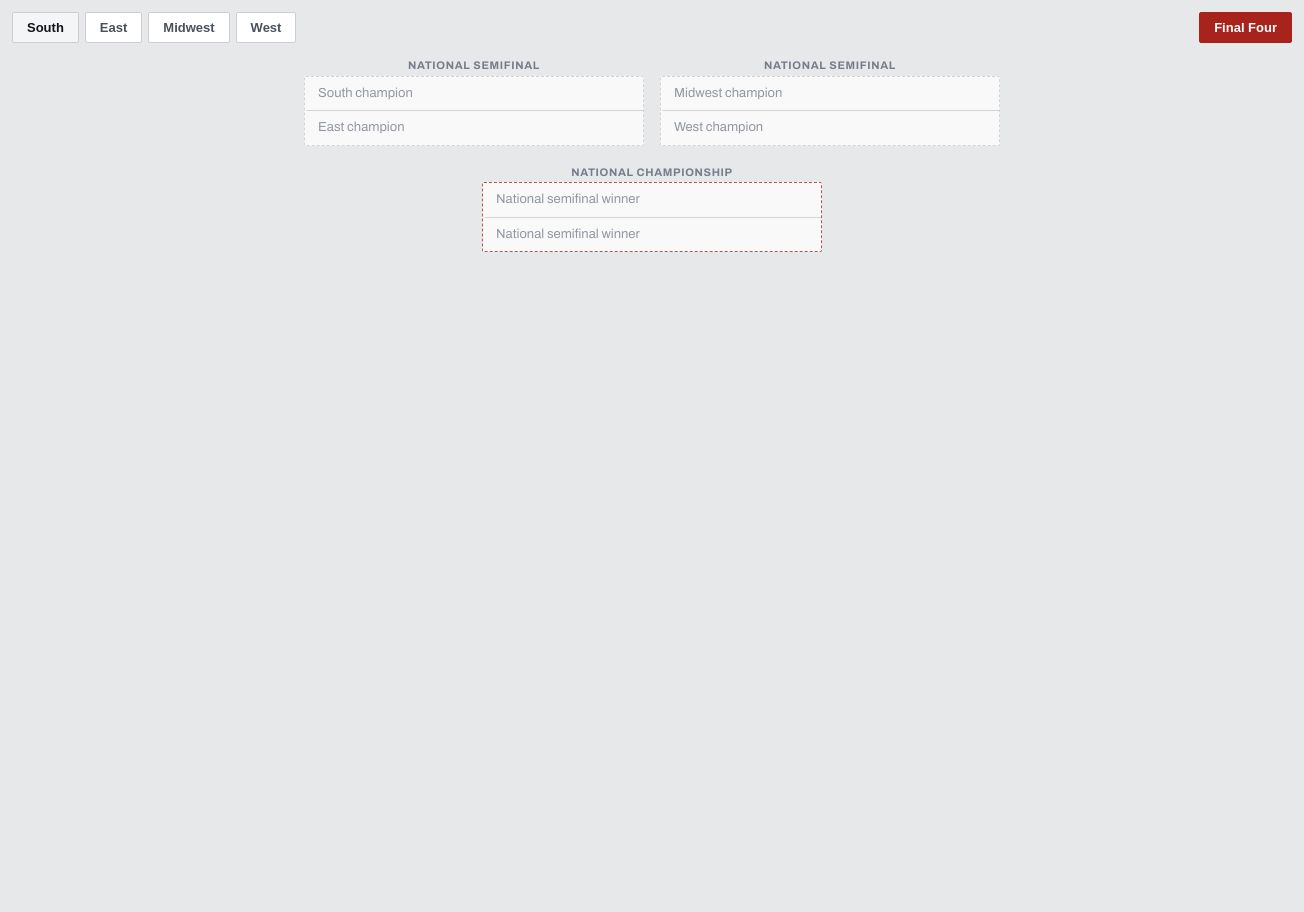
Test: Bracket component — partial field render › renders completed, live, and projected matches across region tabs
The image size is (1304, 912).
Note: South: has both completed slots and live slots.
Click the tab "South": coordinates (45, 28) [12,12,79,43]
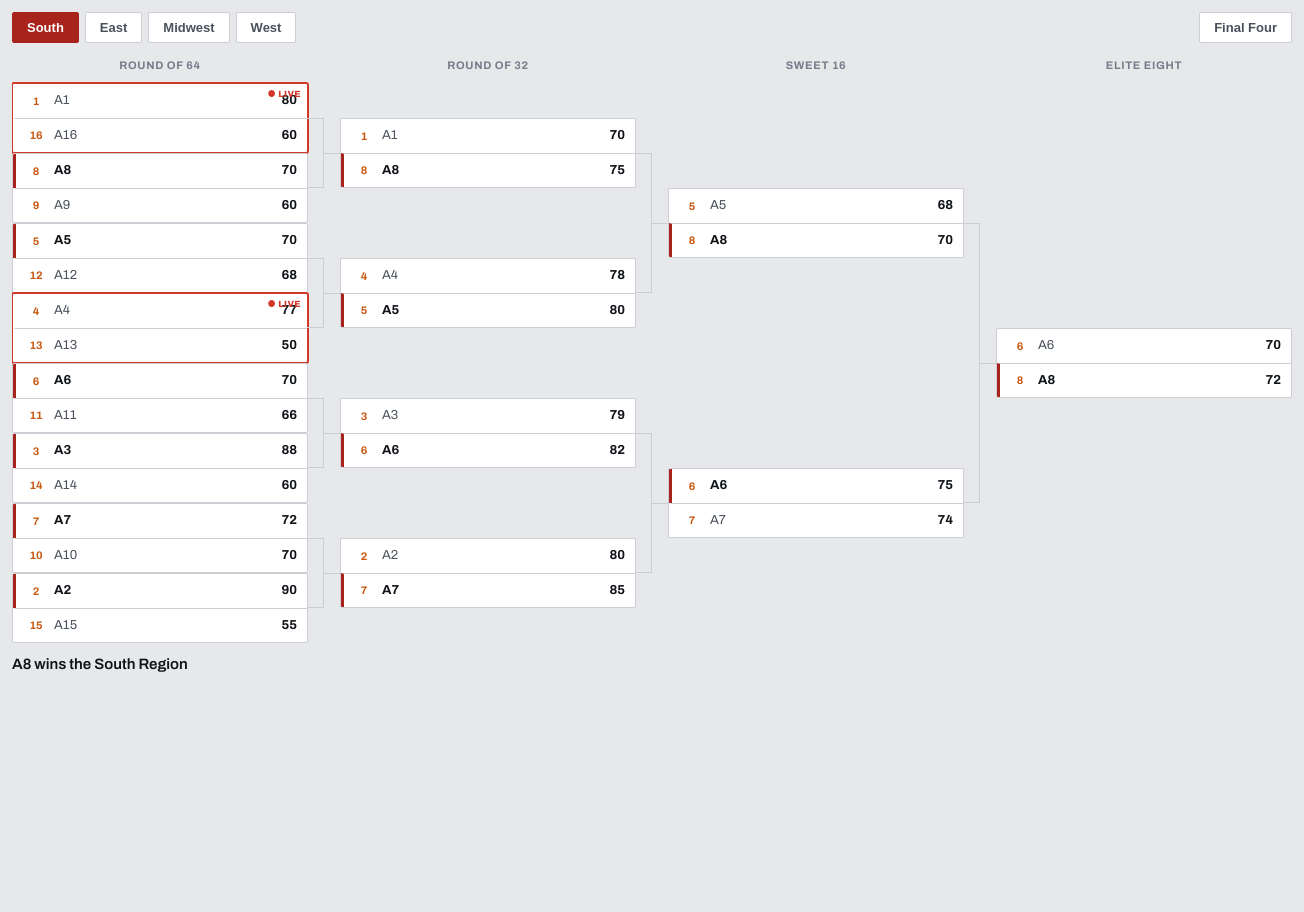
Check: the element with class "is-live" showing "1 A1 80 16 A16 60 ● Live" is shown, box [12,83,308,153]
Check: the element with class "mm-match" showing "8 A8 70 9 A9 60" is shown, box [12,153,308,223]
Note: East: all projected shells.
Click the tab "East": coordinates (114, 28) [85,12,142,43]
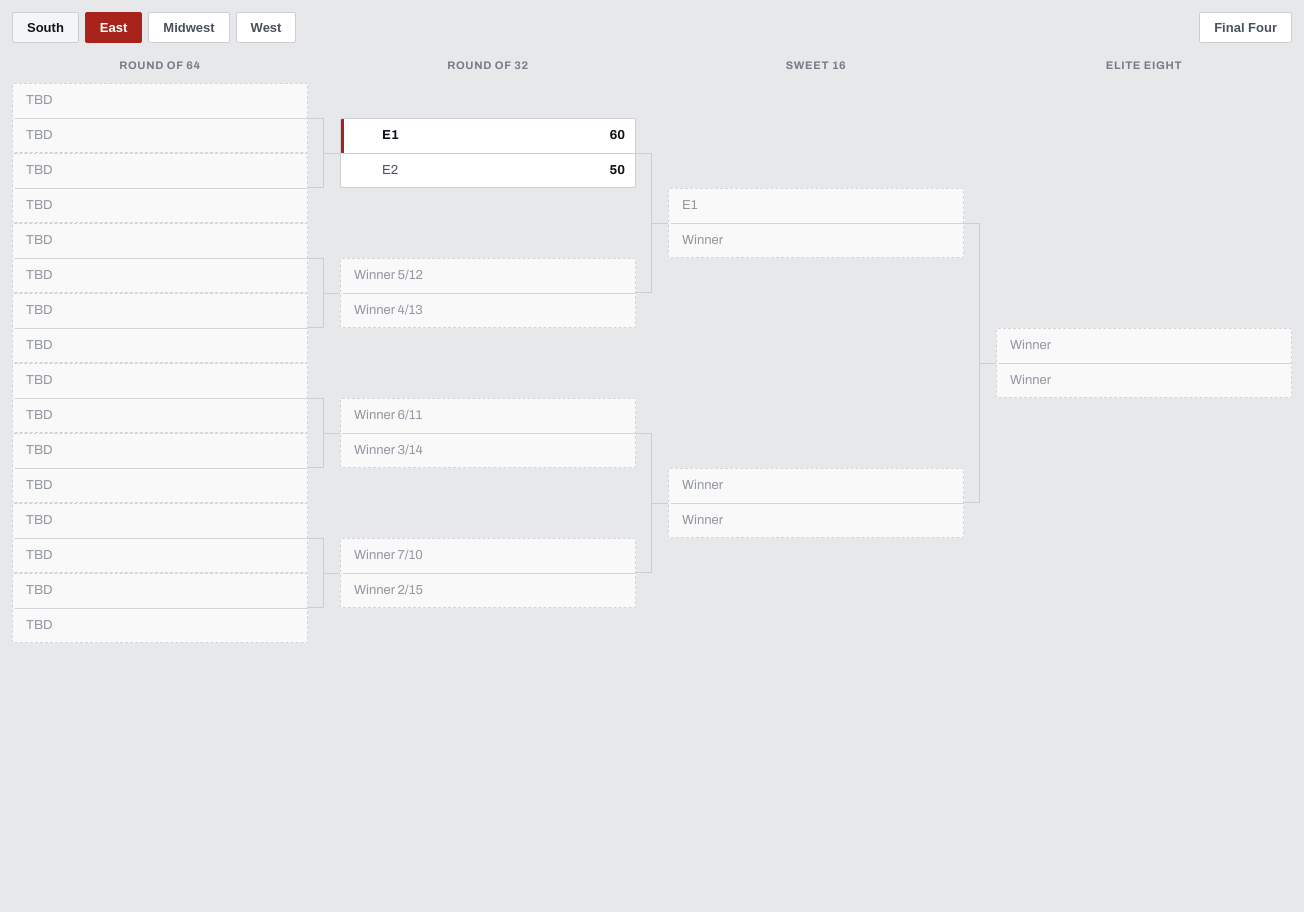
Check: the element with class "is-live" is shown, box [12,83,308,153]
Note: Back to the Final Four tab (its own onClick handler).
Click the tab "Final Four": coordinates (1246, 28) [1199,12,1292,43]
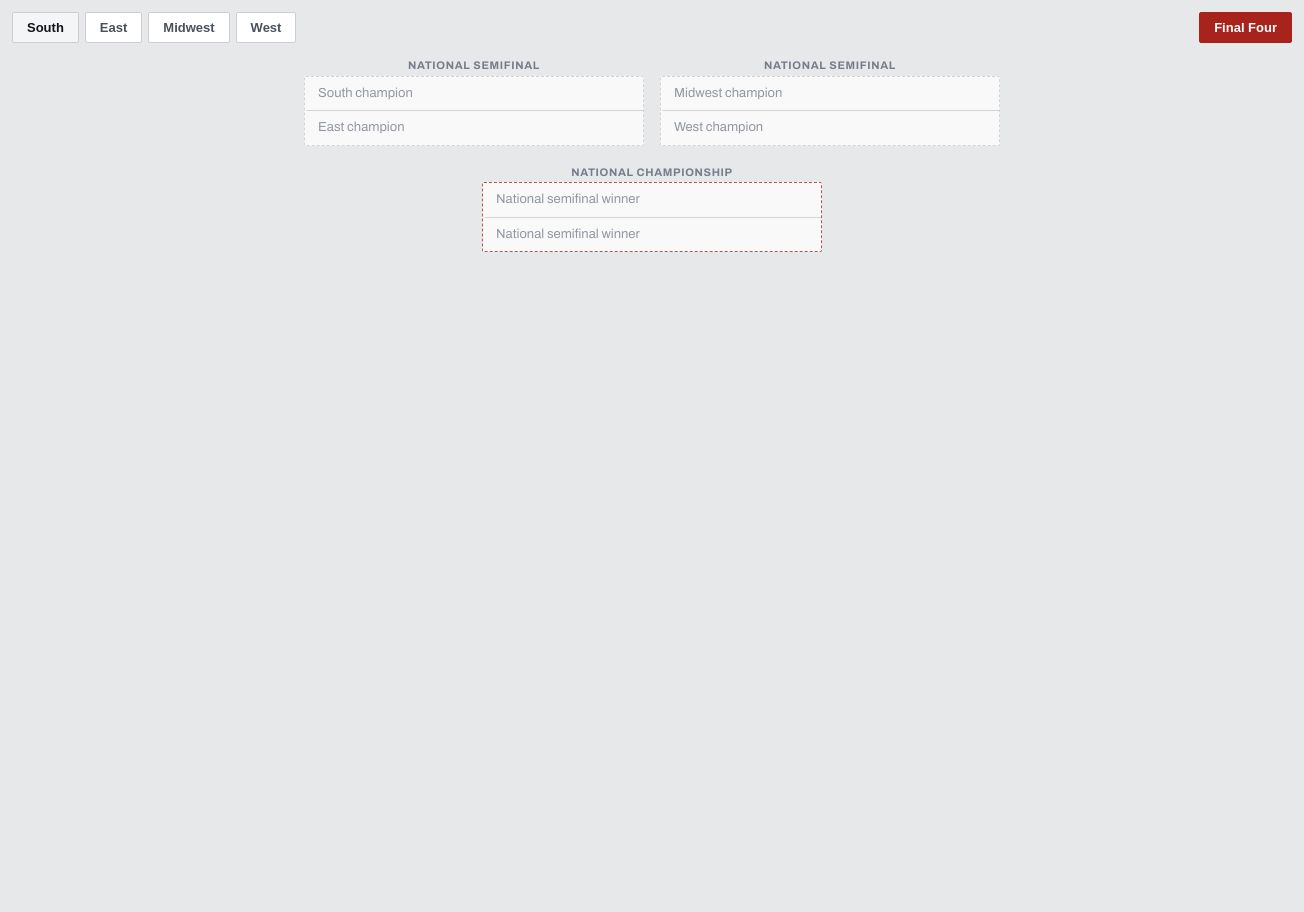
Check: the heading "National Championship" is shown, box [571,166,733,178]
